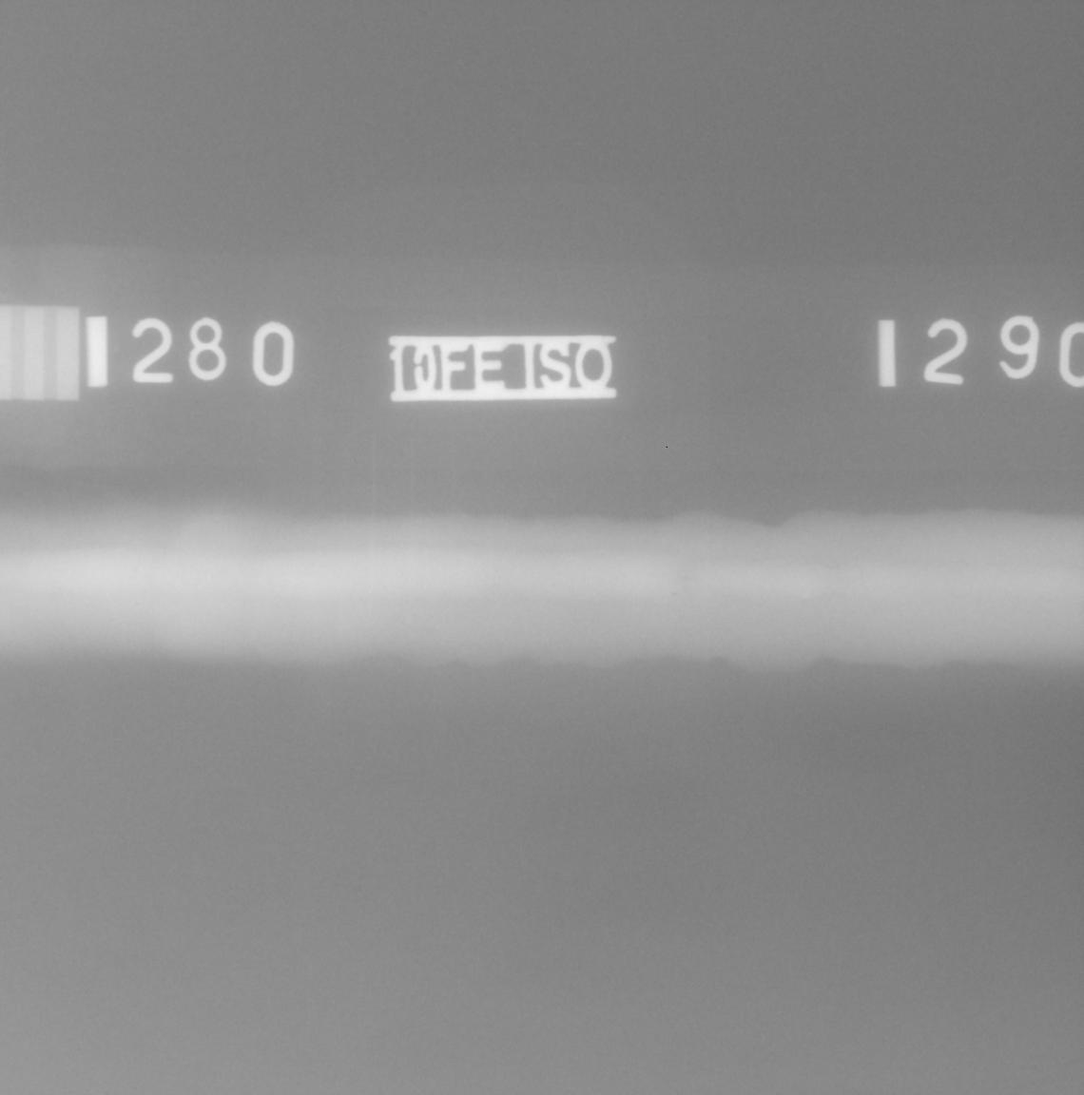Inclusion: (683, 577, 694, 580), (671, 592, 677, 597)
